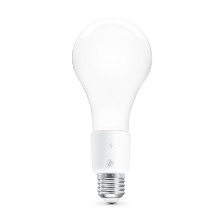light_bulb: (69, 11, 155, 212)
